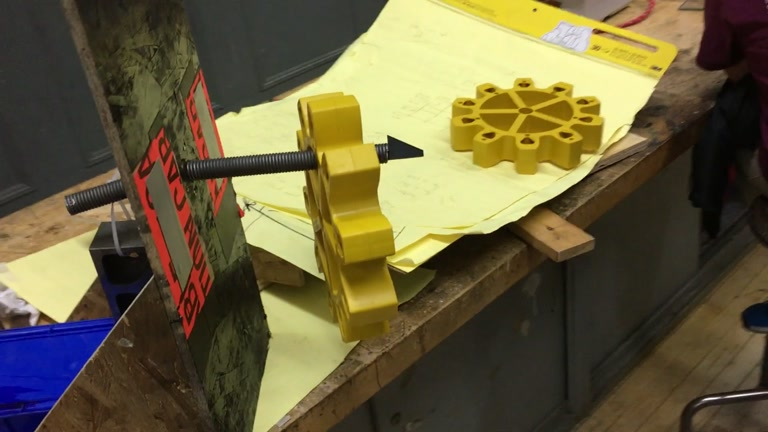gear: (295, 90, 400, 344), (447, 75, 604, 174)
